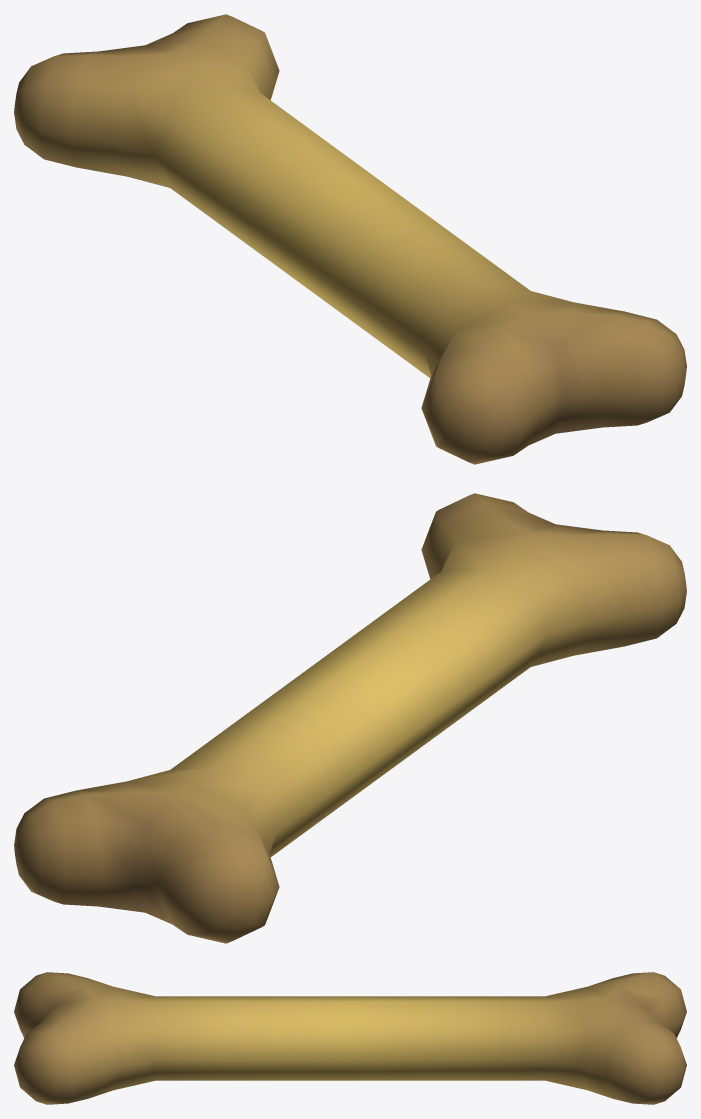
The model's file is m_Bones02.fbx.
3 renders of one model, top to bottom at view 1: azimuth 30°, elevation 25°; view 2: azimuth 150°, elevation 25°; view 3: azimuth 270°, elevation 25°, orthographic. The views are drawn at different scales.
Parts seen in each view (by area): view 1: m_Bones02; view 2: m_Bones02; view 3: m_Bones02.
Part boxes in pixels (left/top/right/bottom): m_Bones02: left=14, top=14, right=686, bottom=464; m_Bones02: left=14, top=493, right=686, bottom=943; m_Bones02: left=14, top=972, right=686, bottom=1104.
Bounding box in the file's own units: 27.68 × 11.75 × 89.04.
